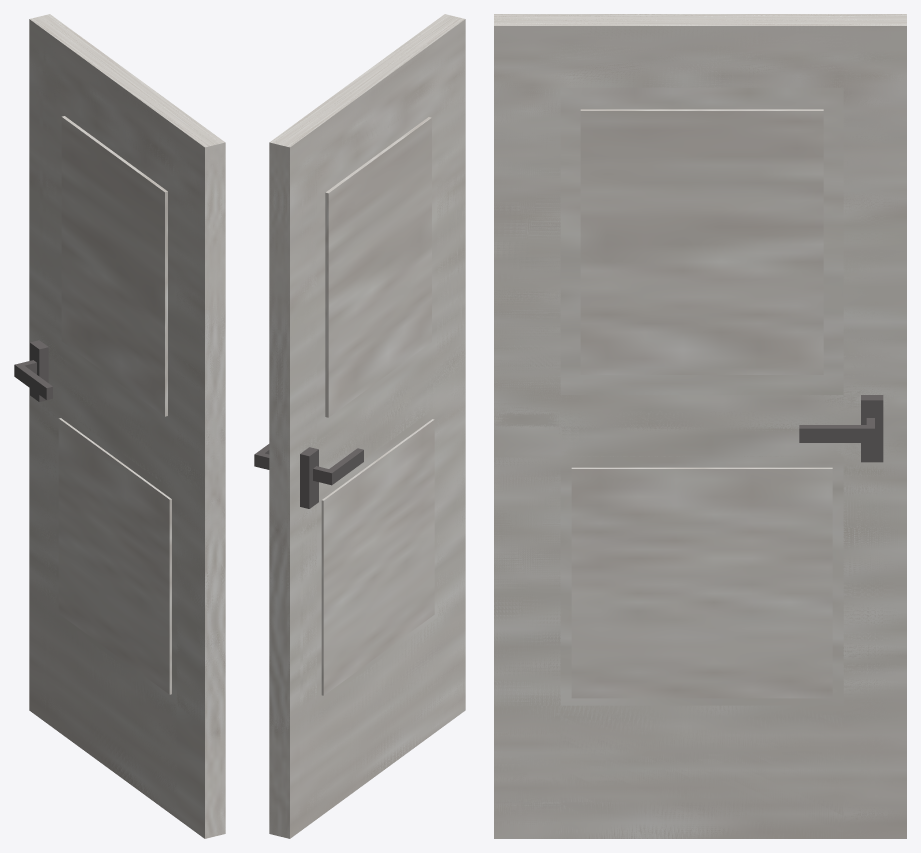
File: Puertablanca.fbx
3 views of the same model, side by side, from view 1: azimuth 30°, elevation 25°; view 2: azimuth 150°, elevation 25°; view 3: azimuth 270°, elevation 25° (orthographic). The views are drawn at different scales.
Visible parts, largest first — view 1: Cube; view 2: Cube; view 3: Cube.
Part boxes in pixels (<box>): Cube: <box>14,14,225,838</box>; Cube: <box>254,14,465,838</box>; Cube: <box>494,14,906,838</box>.
Bounding box in the file's own units: 0.6809 × 5.81 × 2.67.
2 materials, 1 textured.
